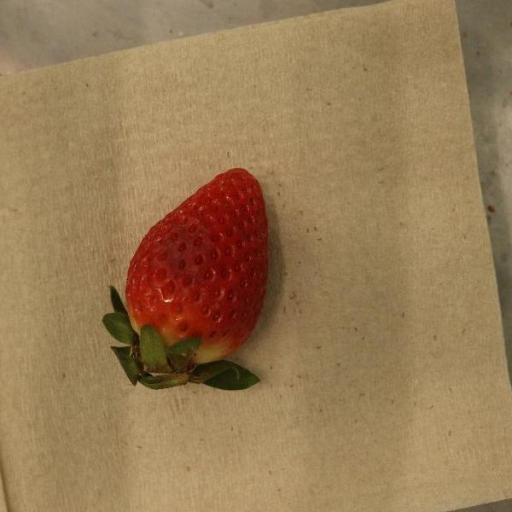Strawberry: (102, 168, 269, 392)
